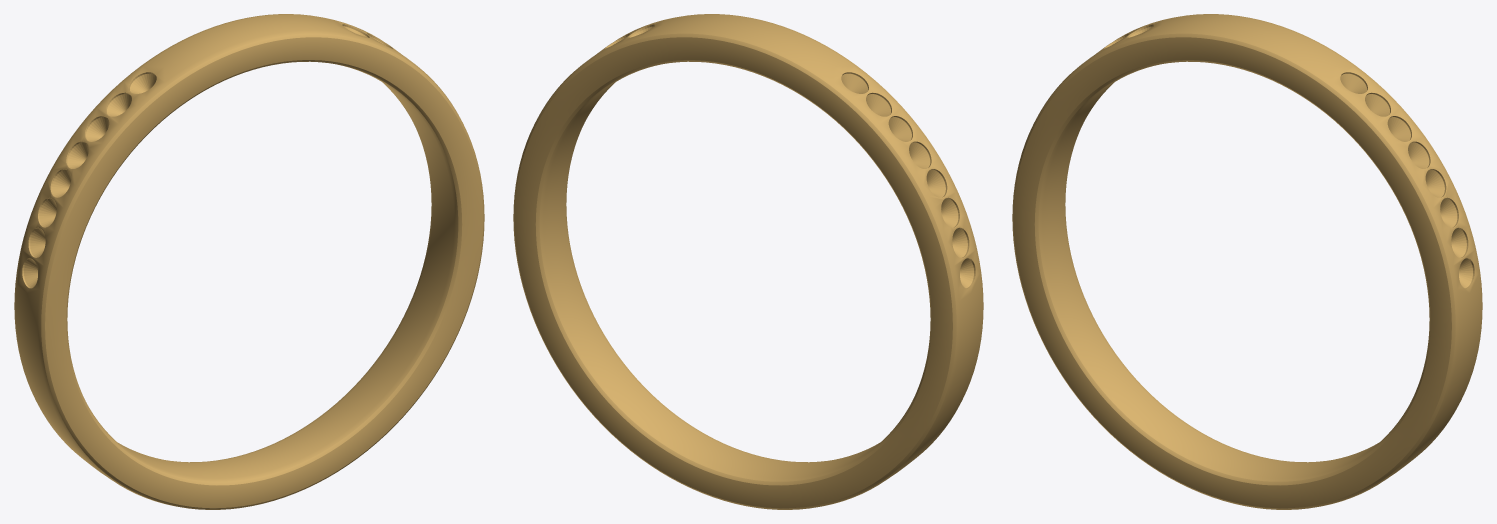
The model's file is flat-micro-pave.glb.
The picture shows the model from 3 angles, left to right: view 1: azimuth 30°, elevation 25°; view 2: azimuth 150°, elevation 25°; view 3: azimuth 330°, elevation 25°; orthographic projection.
Visible parts, largest first — view 1: Band; view 2: Band; view 3: Band.
Part boxes in pixels (box(x1,y1,x2,y2)): Band: box(14, 14, 484, 509); Band: box(513, 14, 983, 509); Band: box(1012, 14, 1482, 509).
Bounding box in the file's own units: 19.6 × 19.6 × 2.3.
